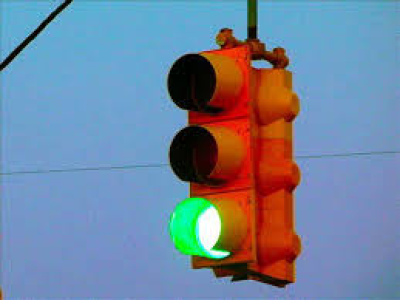trafficlight_green: (165, 51, 242, 259)
